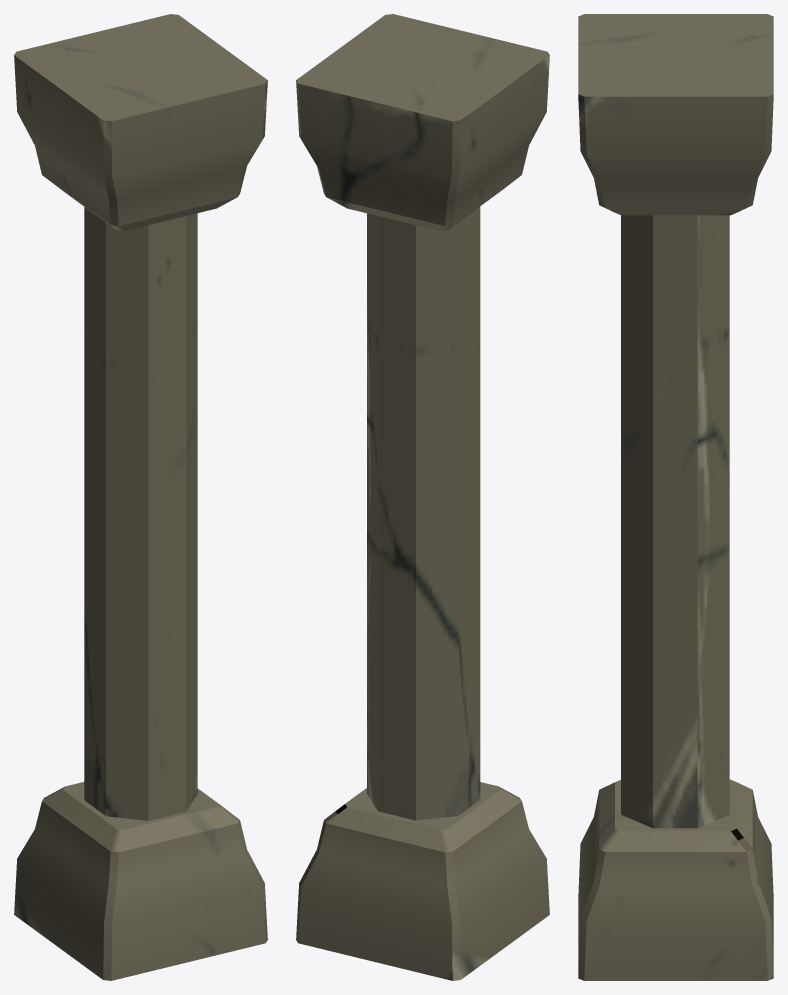
Rendered from column.fbx.
The picture shows the model from 3 angles, left to right: view 1: azimuth 30°, elevation 25°; view 2: azimuth 150°, elevation 25°; view 3: azimuth 270°, elevation 25°; orthographic projection. The views are drawn at different scales.
Parts seen in each view (by area): view 1: pCube34; view 2: pCube34; view 3: pCube34.
Boxes of the visible parts, bbox=[...] form: pCube34: bbox=[14, 14, 267, 980]; pCube34: bbox=[296, 14, 549, 980]; pCube34: bbox=[578, 14, 773, 980].
Size of the model in its own units: 0.8048 by 4.01 by 0.8048.
